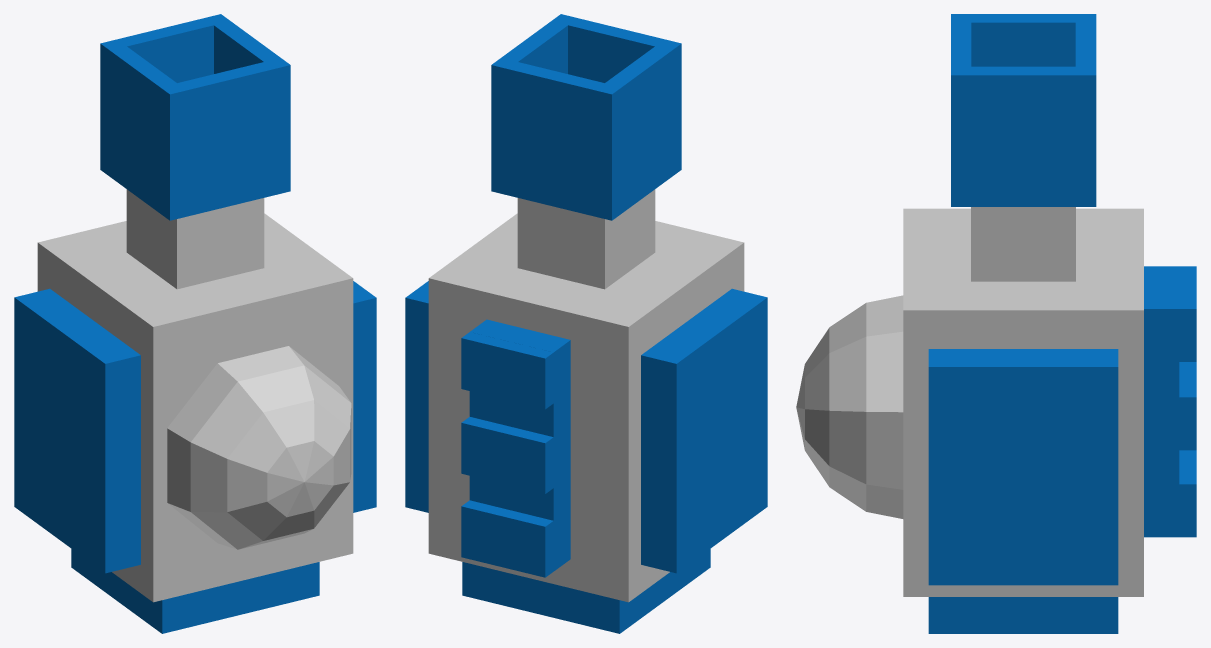
Rendered from MDL_GroundTurretHead.fbx.
3 views of the same model, side by side, from view 1: azimuth 30°, elevation 25°; view 2: azimuth 150°, elevation 25°; view 3: azimuth 270°, elevation 25° (orthographic). The views are drawn at different scales.
Parts seen in each view (by area): view 1: GroundTurretHead, Barrel; view 2: GroundTurretHead, Barrel; view 3: GroundTurretHead, Barrel.
Boxes of the visible parts, box(x1,y1,x2,y2) form: GroundTurretHead: box(14, 189, 376, 633); Barrel: box(100, 14, 290, 220); GroundTurretHead: box(405, 189, 767, 633); Barrel: box(491, 14, 681, 220); GroundTurretHead: box(796, 207, 1196, 633); Barrel: box(951, 14, 1096, 206).
Size of the model in its own units: 136 by 252 by 166.
